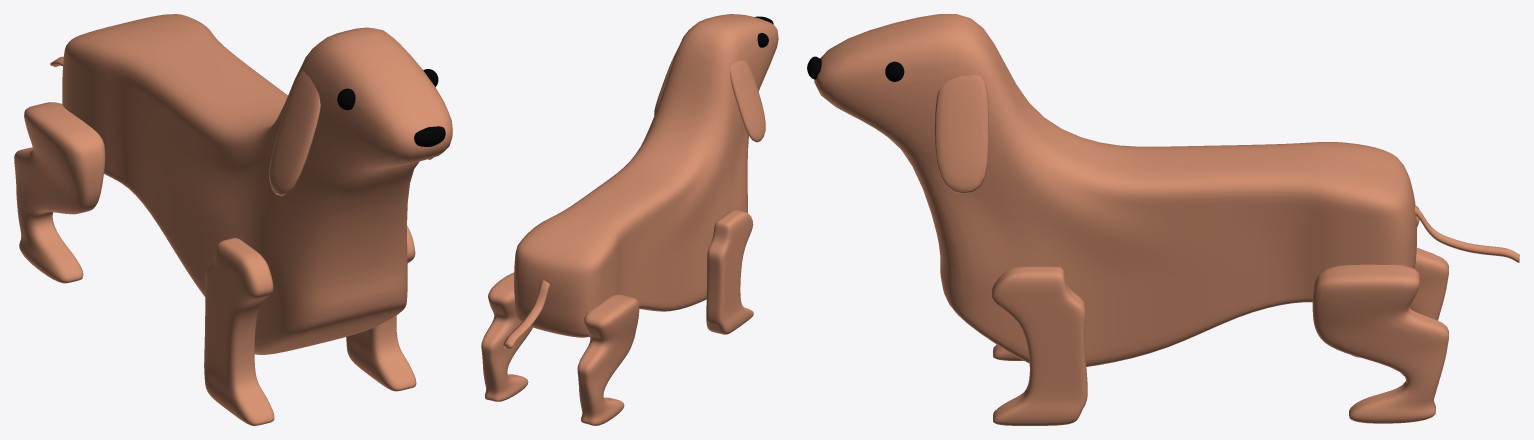
Rendered from Weiner_Dog.fbx.
3 views of the same model, side by side, from view 1: azimuth 30°, elevation 25°; view 2: azimuth 150°, elevation 25°; view 3: azimuth 270°, elevation 25° (orthographic). The views are drawn at different scales.
Visible parts, largest first — view 1: Weiner_Dog_Bod, Weiner_Dog_Legs_Front, Weiner_Dog_Legs_Back; view 2: Weiner_Dog_Bod, Weiner_Dog_Legs_Back, Weiner_Dog_Legs_Front, Weiner_Dog_Tail; view 3: Weiner_Dog_Bod, Weiner_Dog_Legs_Back, Weiner_Dog_Legs_Front, Weiner_Dog_Tail.
Boxes of the visible parts, x1=… form: Weiner_Dog_Bod: x1=62, y1=14, x2=452, y2=354; Weiner_Dog_Legs_Front: x1=204, y1=226, x2=416, y2=425; Weiner_Dog_Legs_Back: x1=14, y1=102, x2=105, y2=283; Weiner_Dog_Bod: x1=514, y1=14, x2=778, y2=337; Weiner_Dog_Legs_Back: x1=481, y1=272, x2=639, y2=425; Weiner_Dog_Legs_Front: x1=706, y1=210, x2=753, y2=334; Weiner_Dog_Tail: x1=503, y1=280, x2=549, y2=348; Weiner_Dog_Bod: x1=807, y1=14, x2=1416, y2=366; Weiner_Dog_Legs_Back: x1=1312, y1=205, x2=1448, y2=423; Weiner_Dog_Legs_Front: x1=991, y1=266, x2=1087, y2=425; Weiner_Dog_Tail: x1=1415, y1=206, x2=1519, y2=262.
Bounding box in the file's own units: 51.1 × 104 × 182.
